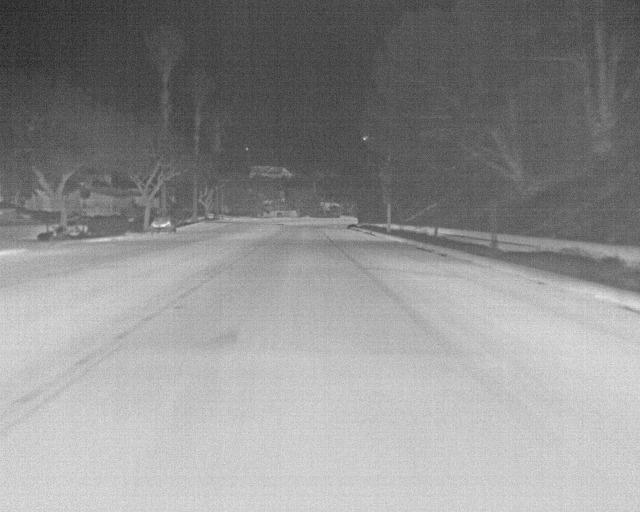car: (152, 214, 176, 234)
